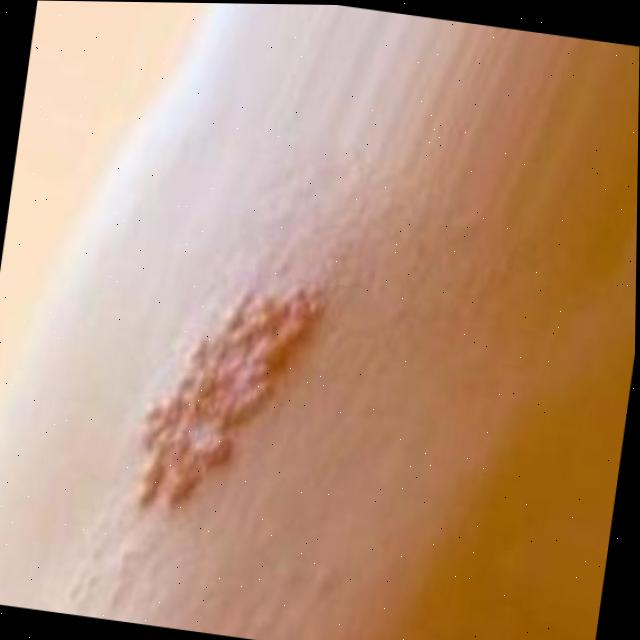Shingles: (125, 255, 355, 543)
